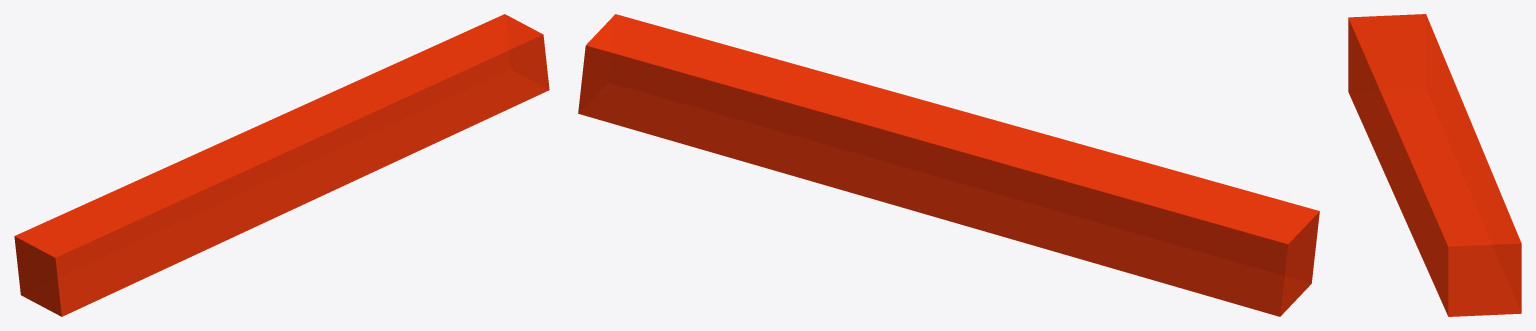
The model's file is Event_421556567_EErechit_49.fbx.
3 renders of one model, left to right at view 1: azimuth 30°, elevation 25°; view 2: azimuth 150°, elevation 25°; view 3: azimuth 270°, elevation 25°, orthographic. The views are drawn at different scales.
Parts seen in each view (by area): view 1: Model; view 2: Model; view 3: Model.
Part boxes in pixels (x1=…): Model: x1=14, y1=14, x2=549, y2=316; Model: x1=578, y1=14, x2=1319, y2=316; Model: x1=1348, y1=14, x2=1521, y2=316.
Bounding box in the file's own units: 0.7189 × 0.1563 × 0.1701.
